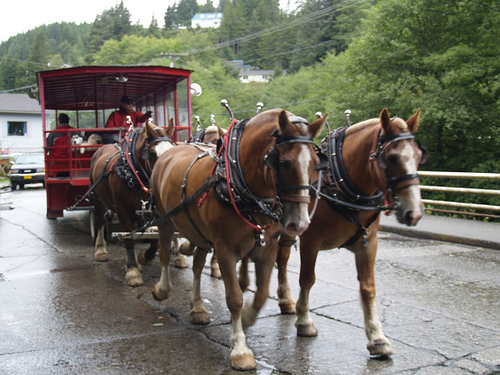horse: (150, 107, 326, 373), (264, 106, 426, 360), (87, 117, 175, 288)
